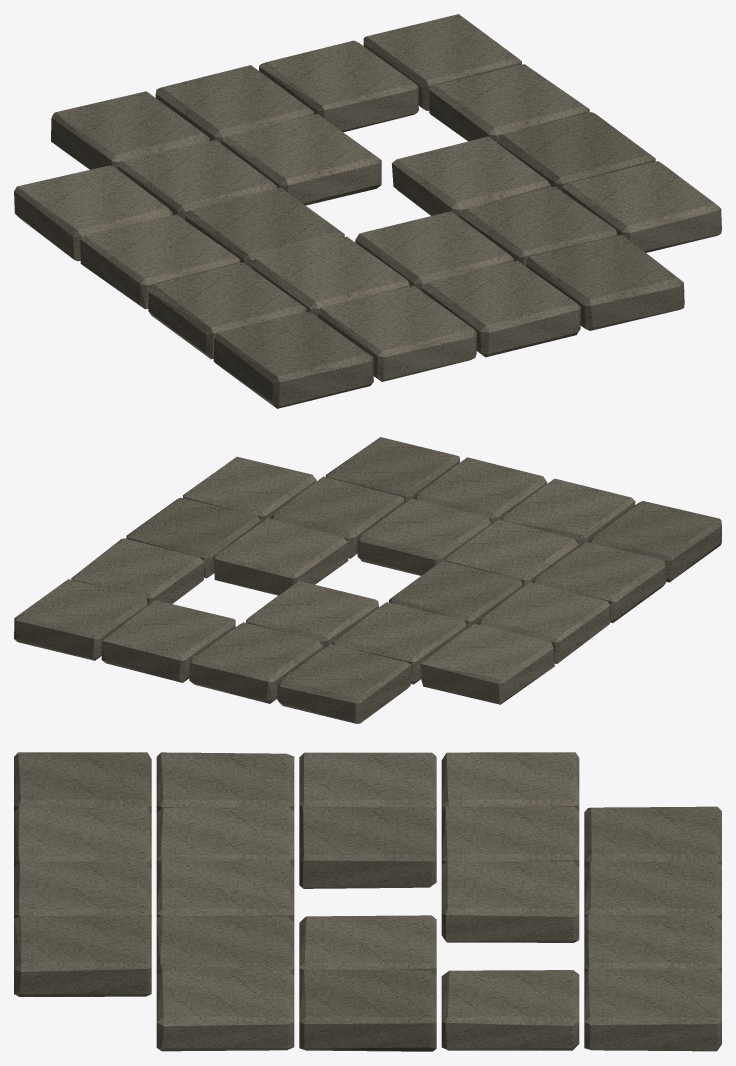
File: env_ruin_surfaces_03_paving_broken.glb
3 renders of one model, top to bottom at view 1: azimuth 30°, elevation 25°; view 2: azimuth 150°, elevation 25°; view 3: azimuth 270°, elevation 25°, orthographic. The views are drawn at different scales.
Size of the model in its own units: 1.79 by 0.105 by 1.99.
1 material, 1 textured.
